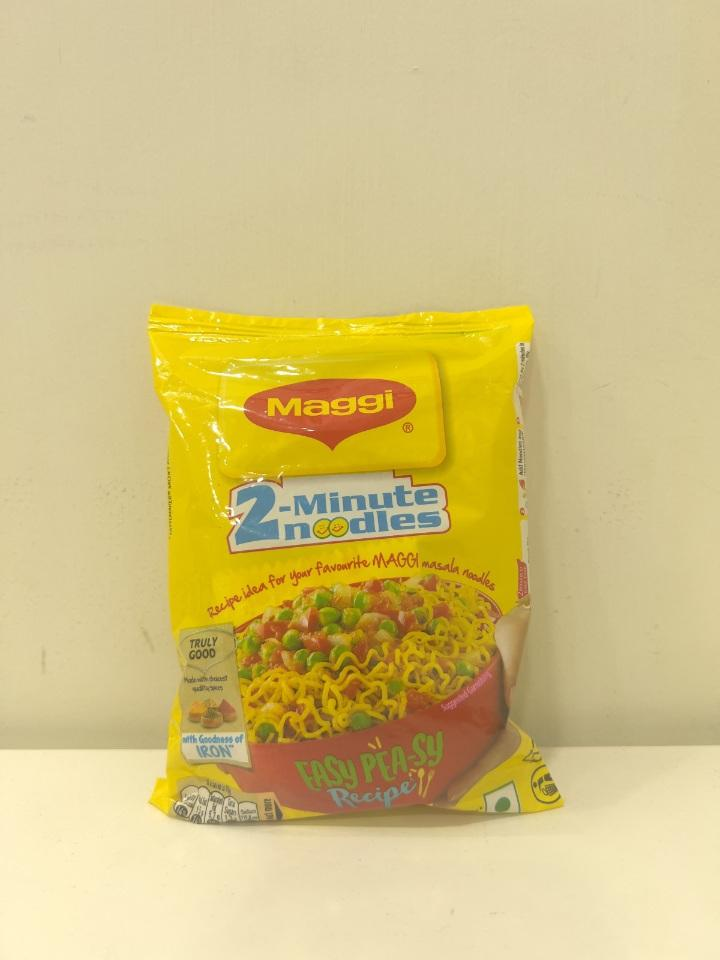Maggi: (155, 293, 560, 824)
